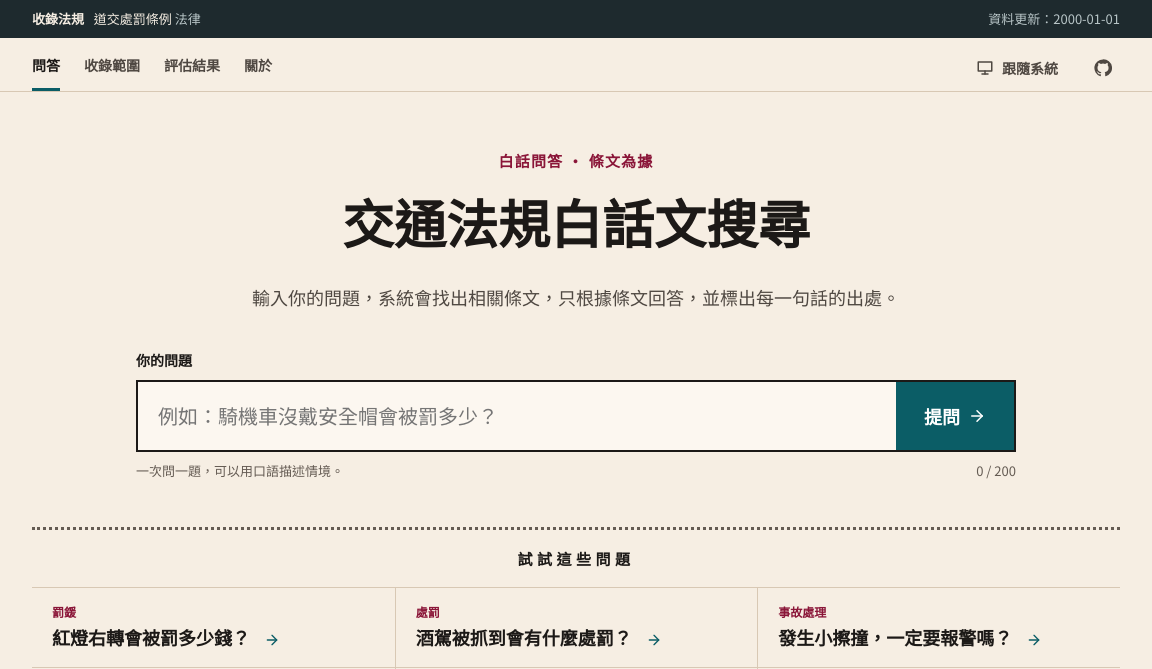
Test: citations, evidence and the full-text panel (desktop) › opens an uncited article too, and labels it as retrieved
Type "紅燈右轉會被罰多少錢？" into the text box labelled "你的問題" at (517, 416), box [138, 382, 896, 450]
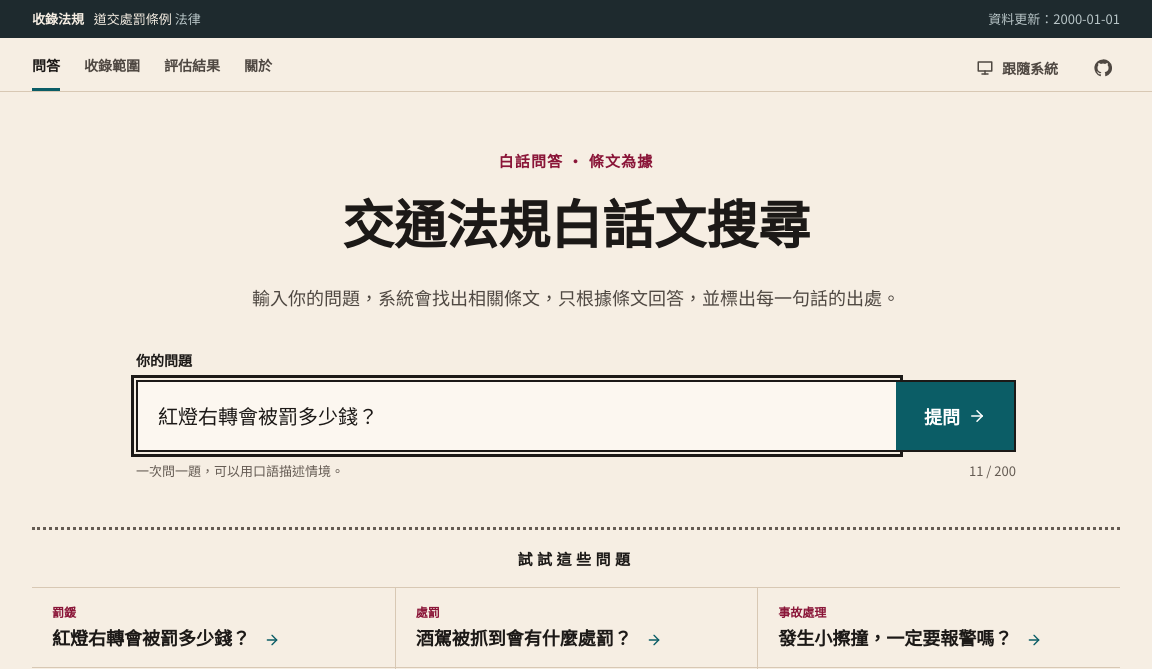
Click the button "提問" at (955, 416), box [896, 382, 1014, 450]
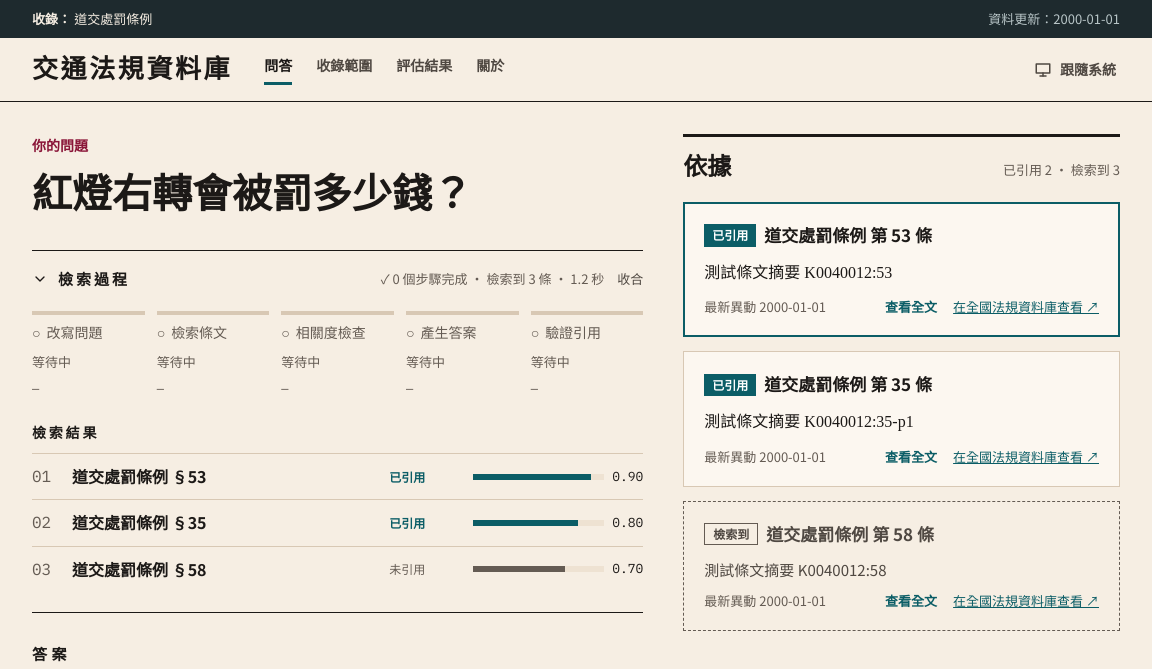
Click the button with aria-label "查看道交處罰條例 第 58 條全文" at (911, 601), box [885, 590, 937, 612]
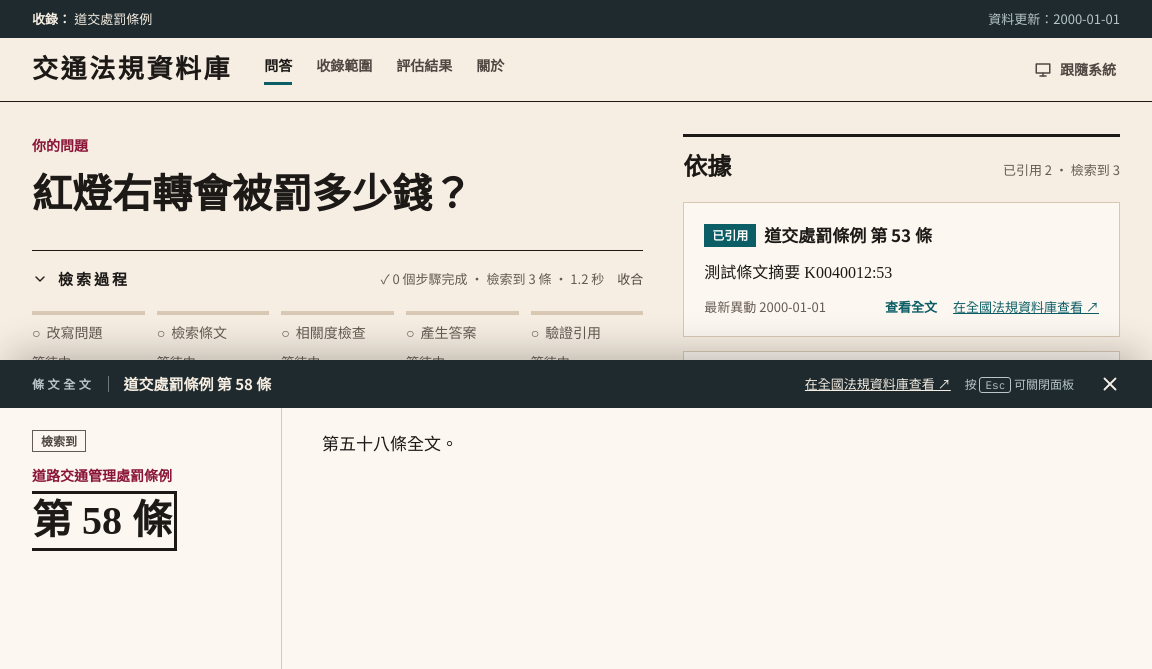
Result: the text "檢索到" is shown at [32, 430, 86, 452]
Result: no the button "查看全文" are shown
